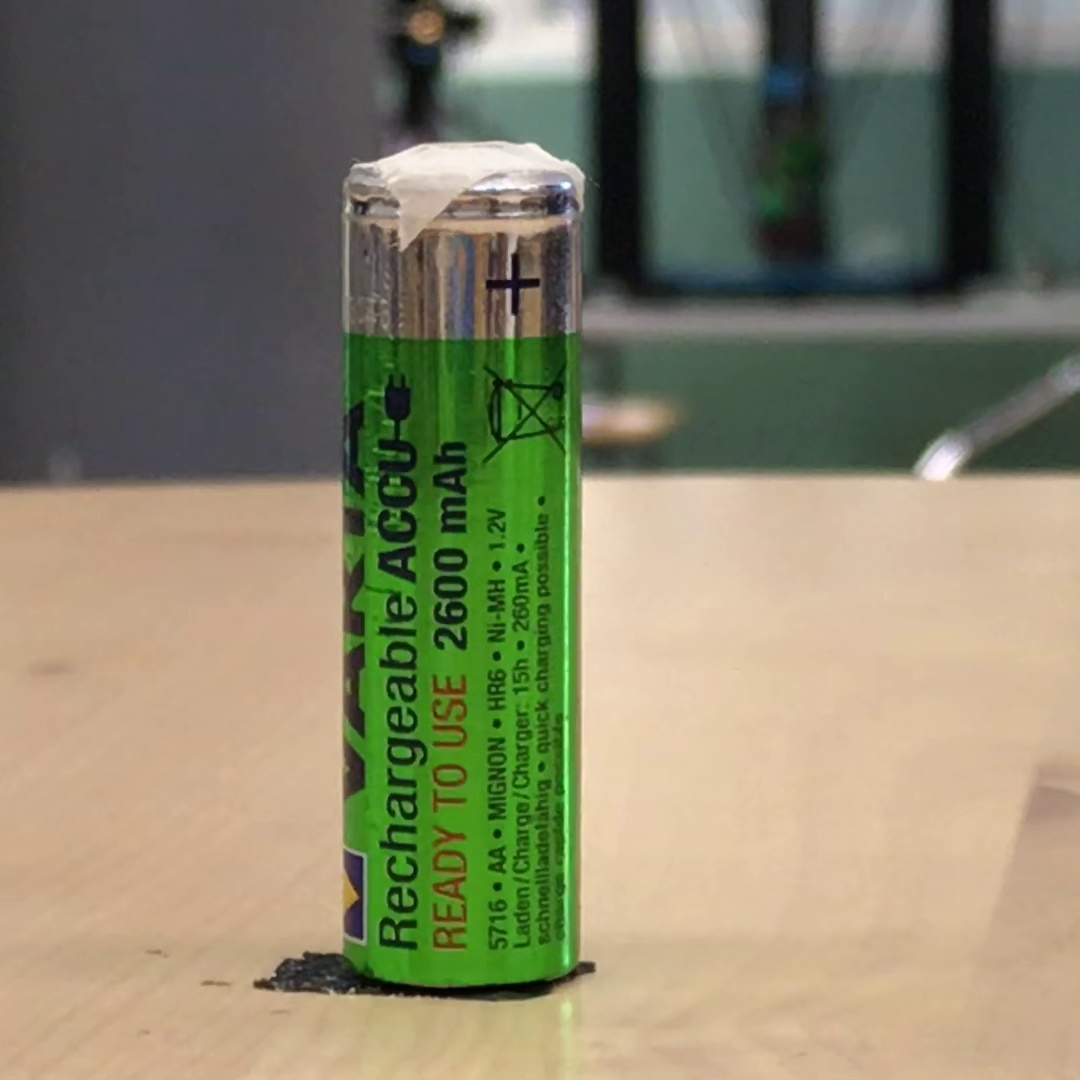keyword: (467, 458, 515, 562), (476, 569, 516, 653), (476, 658, 517, 721)
